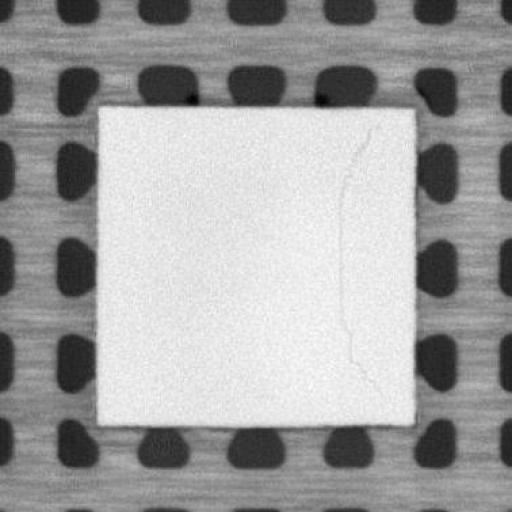DIE_CRACK: (330, 126, 380, 392)
